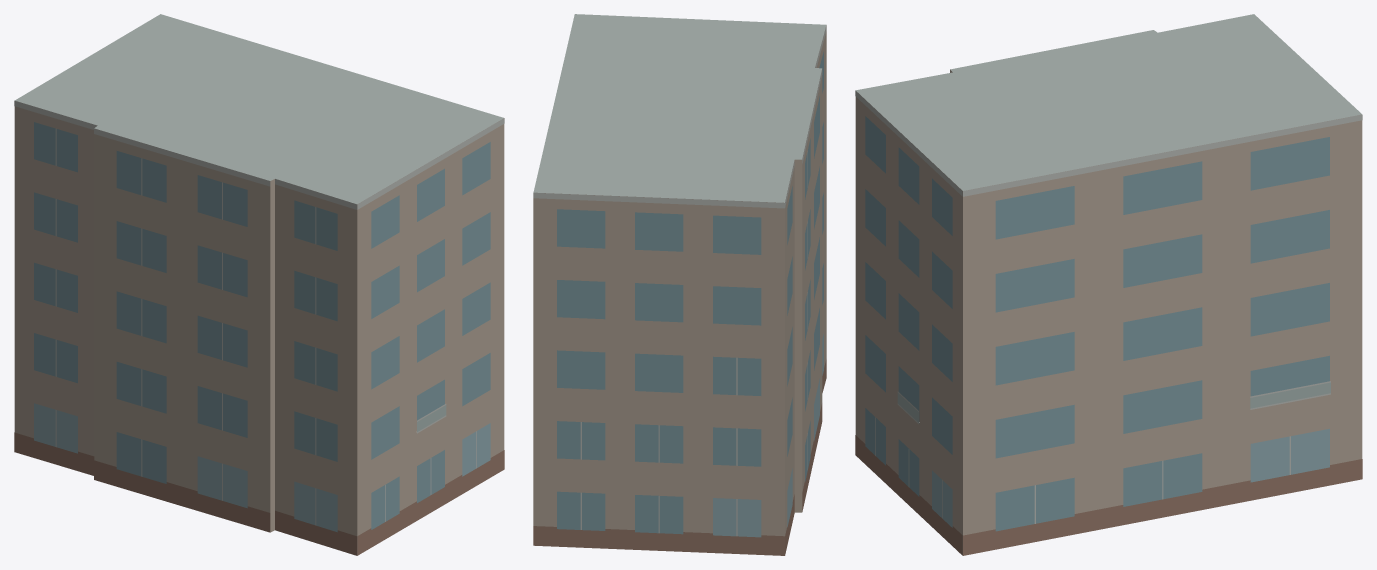
The model's file is survey-upis-32554939.glb.
3 views of the same model, side by side, from view 1: azimuth 30°, elevation 25°; view 2: azimuth 150°, elevation 25°; view 3: azimuth 270°, elevation 25° (orthographic). The views are drawn at different scales.
Visible parts, largest first — view 1: survey-upis-32554939.tmp; view 2: survey-upis-32554939.tmp; view 3: survey-upis-32554939.tmp.
Boxes of the visible parts, x1,y1,x2,y2 form: survey-upis-32554939.tmp: (14, 14, 504, 555); survey-upis-32554939.tmp: (533, 14, 826, 555); survey-upis-32554939.tmp: (855, 14, 1362, 555).
Size of the model in its own units: 15.88 by 15.25 by 19.22.
